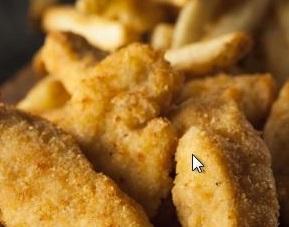cursor: (190, 151, 207, 176)
